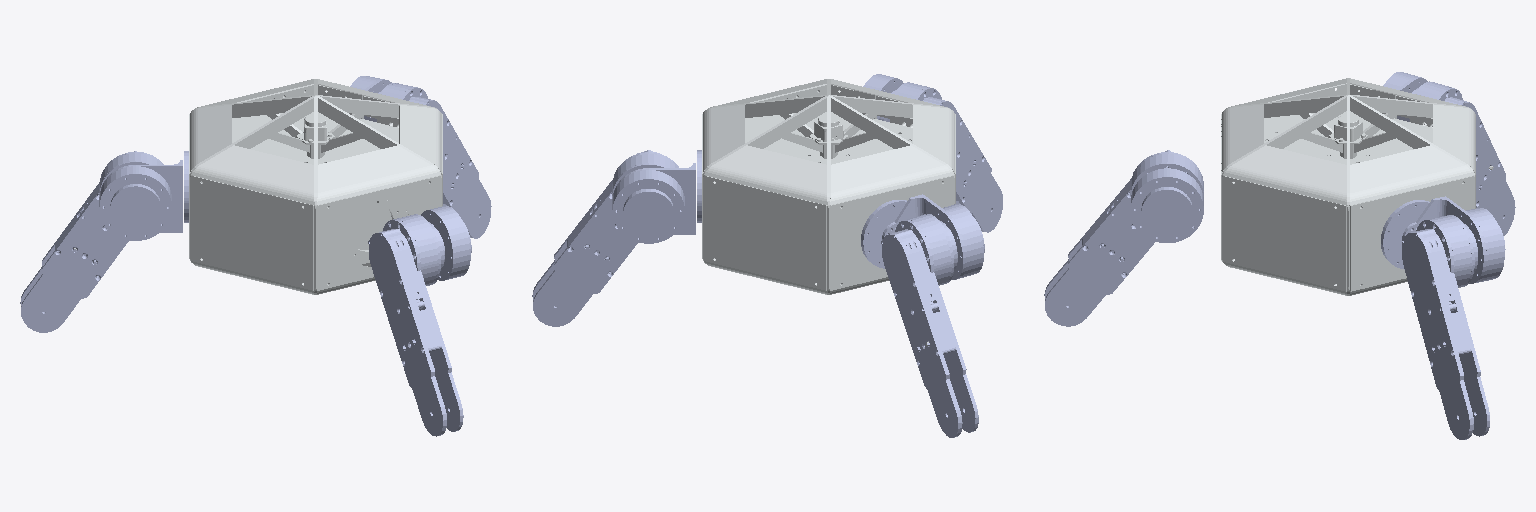
The robot description file, URDF, robot "tripod6":
<?xml version="1.0" encoding="utf-8"?>
<!-- This URDF was automatically created by SolidWorks to URDF Exporter! Originally created by [author] ([email redacted]) 
     Commit Version: 1.6.0-4-g7f85cfe  Build Version: 1.6.7995.38578
     For more information, please see http://wiki.ros.org/sw_urdf_exporter -->
<robot
  name="tripod6">
  <link
    name="base_link">
    <inertial>
      <origin
        xyz="-0.00325506602262156 0.0204763017132949 0.0257468978154951"
        rpy="0 0 0" />
      <mass
        value="11.3762827967786" />
      <inertia
        ixx="0.0406078012200441"
        ixy="0.0102641818605393"
        ixz="-3.94854534274407E-07"
        iyy="0.0528921667296946"
        iyz="-2.83895501119624E-08"
        izz="0.0710451640958759" />
    </inertial>
    <visual>
      <origin
        xyz="0 0 0"
        rpy="0 0 0" />
      <geometry>
        <mesh
          filename="package://tripod6/meshes/base_link.STL" />
      </geometry>
      <material
        name="">
        <color
          rgba="0.898039215686275 0.917647058823529 0.929411764705882 1" />
      </material>
    </visual>
    <collision>
      <origin
        xyz="0 0 0"
        rpy="0 0 0" />
      <geometry>
        <mesh
          filename="package://tripod6/meshes/base_link.STL" />
      </geometry>
    </collision>
  </link>
  <link
    name="sec01">
    <inertial>
      <origin
        xyz="0.00048653 0.015913 -3.1489E-05"
        rpy="0 0 0" />
      <mass
        value="0.69712" />
      <inertia
        ixx="0.0011428"
        ixy="-9.0045E-05"
        ixz="-4.1383E-07"
        iyy="0.0011939"
        iyz="-4.932E-19"
        izz="0.00095487" />
    </inertial>
    <visual>
      <origin
        xyz="0 0 0"
        rpy="0 0 0" />
      <geometry>
        <mesh
          filename="package://tripod6/meshes/sec01.STL" />
      </geometry>
      <material
        name="">
        <color
          rgba="0.79216 0.81961 0.93333 1" />
      </material>
    </visual>
    <collision>
      <origin
        xyz="0 0 0"
        rpy="0 0 0" />
      <geometry>
        <mesh
          filename="package://tripod6/meshes/sec01.STL" />
      </geometry>
    </collision>
  </link>
  <joint
    name="leg01"
    type="revolute">
    <origin
      xyz="-0.0027021 -0.19892 0.029643"
      rpy="0 0 -1.5708" />
    <parent
      link="base_link" />
    <child
      link="sec01" />
    <axis
      xyz="1 0 0" />
    <limit
      lower="-1.571"
      upper="1.571"
      effort="100000"
      velocity="10000" />
  </joint>
  <link
    name="hsec01">
    <inertial>
      <origin
        xyz="-0.0858021916032918 -0.0356038115553252 -0.0478130457045351"
        rpy="0 0 0" />
      <mass
        value="2.59385150429137" />
      <inertia
        ixx="0.0132813268489571"
        ixy="1.03375570286498E-07"
        ixz="7.13532302168331E-06"
        iyy="0.00811205669431778"
        iyz="-0.00473111556439252"
        izz="0.00548869413504745" />
    </inertial>
    <visual>
      <origin
        xyz="0 0 0"
        rpy="0 0 0" />
      <geometry>
        <mesh
          filename="package://tripod6/meshes/hsec01.STL" />
      </geometry>
      <material
        name="">
        <color
          rgba="0.792156862745098 0.819607843137255 0.933333333333333 1" />
      </material>
    </visual>
    <collision>
      <origin
        xyz="0 0 0"
        rpy="0 0 0" />
      <geometry>
        <mesh
          filename="package://tripod6/meshes/hsec01.STL" />
      </geometry>
    </collision>
  </link>
  <joint
    name="high01"
    type="revolute">
    <origin
      xyz="0.0788064380992387 0.0895000000000011 0"
      rpy="0 0 1.5707963267949" />
    <parent
      link="sec01" />
    <child
      link="hsec01" />
    <axis
      xyz="-1 0 0" />
    <limit
      lower="-1.571"
      upper="1.571"
      effort="100000"
      velocity="10000" />
  </joint>
  <link
    name="lsec01">
    <inertial>
      <origin
        xyz="-0.00741155567241021 -0.00127192326916403 -0.0533920056192748"
        rpy="0 0 0" />
      <mass
        value="0.292019107167018" />
      <inertia
        ixx="0.000681102636560165"
        ixy="7.38104870478283E-10"
        ixz="-9.0996591265309E-11"
        iyy="0.000615407778319895"
        iyz="-1.26066070763318E-05"
        izz="8.65624197807898E-05" />
    </inertial>
    <visual>
      <origin
        xyz="0 0 0"
        rpy="0 0 0" />
      <geometry>
        <mesh
          filename="package://tripod6/meshes/lsec01.STL" />
      </geometry>
      <material
        name="">
        <color
          rgba="0.792156862745098 0.819607843137255 0.933333333333333 1" />
      </material>
    </visual>
    <collision>
      <origin
        xyz="0 0 0"
        rpy="0 0 0" />
      <geometry>
        <mesh
          filename="package://tripod6/meshes/lsec01.STL" />
      </geometry>
    </collision>
  </link>
  <joint
    name="low01"
    type="revolute">
    <origin
      xyz="-0.10655 -0.162849136784516 -0.216842702161685"
      rpy="0 0 0" />
    <parent
      link="hsec01" />
    <child
      link="lsec01" />
    <axis
      xyz="-1 0 0" />
    <limit
      lower="-1.571"
      upper="1.571"
      effort="100000"
      velocity="10000" />
  </joint>
  <link
    name="sec02">
    <inertial>
      <origin
        xyz="0.00048653 0.015902 -0.00057944"
        rpy="0 0 0" />
      <mass
        value="0.69712" />
      <inertia
        ixx="0.0011428"
        ixy="-9.0005E-05"
        ixz="2.6872E-06"
        iyy="0.0011936"
        iyz="-8.2262E-06"
        izz="0.00095515" />
    </inertial>
    <visual>
      <origin
        xyz="0 0 0"
        rpy="0 0 0" />
      <geometry>
        <mesh
          filename="package://tripod6/meshes/sec02.STL" />
      </geometry>
      <material
        name="">
        <color
          rgba="0.79216 0.81961 0.93333 1" />
      </material>
    </visual>
    <collision>
      <origin
        xyz="0 0 0"
        rpy="0 0 0" />
      <geometry>
        <mesh
          filename="package://tripod6/meshes/sec02.STL" />
      </geometry>
    </collision>
  </link>
  <joint
    name="leg02"
    type="revolute">
    <origin
      xyz="0.18577 0.12753 0.029643"
      rpy="0 0 0.5236" />
    <parent
      link="base_link" />
    <child
      link="sec02" />
    <axis
      xyz="1 0 0" />
    <limit
      lower="-1.571"
      upper="1.571"
      effort="100000"
      velocity="10000" />
  </joint>
  <link
    name="hsec02">
    <inertial>
      <origin
        xyz="0.0335085717729542 -0.085756652923112 -0.0493355728010134"
        rpy="0 0 0" />
      <mass
        value="2.5896766478431" />
      <inertia
        ixx="0.0085198262787041"
        ixy="-1.03390021082483E-07"
        ixz="0.00459661998532711"
        iyy="0.0132812323187152"
        iyz="7.12185204419002E-06"
        izz="0.00508067346034401" />
    </inertial>
    <visual>
      <origin
        xyz="0 0 0"
        rpy="0 0 0" />
      <geometry>
        <mesh
          filename="package://tripod6/meshes/hsec02.STL" />
      </geometry>
      <material
        name="">
        <color
          rgba="0.792156862745098 0.819607843137255 0.933333333333333 1" />
      </material>
    </visual>
    <collision>
      <origin
        xyz="0 0 0"
        rpy="0 0 0" />
      <geometry>
        <mesh
          filename="package://tripod6/meshes/hsec02.STL" />
      </geometry>
    </collision>
  </link>
  <joint
    name="high02"
    type="revolute">
    <origin
      xyz="0.0788064380992388 0.0894469172453881 -0.00308204401280986"
      rpy="-0.0344430556533543 0 0" />
    <parent
      link="sec02" />
    <child
      link="hsec02" />
    <axis
      xyz="0 -1 0" />
    <limit
      lower="-1.571"
      upper="1.571"
      effort="100000"
      velocity="10000" />
  </joint>
  <link
    name="lsec02">
    <inertial>
      <origin
        xyz="-0.00106185200526404 -0.00741156475670043 -0.05339660055728"
        rpy="0 0 0" />
      <mass
        value="0.292019102742486" />
      <inertia
        ixx="0.0006155001532679"
        ixy="-7.36355502695954E-10"
        ixz="-1.05232958011785E-05"
        iyy="0.00068110389430123"
        iyz="-4.62761016689675E-10"
        izz="8.64713392775338E-05" />
    </inertial>
    <visual>
      <origin
        xyz="0 0 0"
        rpy="0 0 0" />
      <geometry>
        <mesh
          filename="package://tripod6/meshes/lsec02.STL" />
      </geometry>
      <material
        name="">
        <color
          rgba="0.792156862745098 0.819607843137255 0.933333333333333 1" />
      </material>
    </visual>
    <collision>
      <origin
        xyz="0 0 0"
        rpy="0 0 0" />
      <geometry>
        <mesh
          filename="package://tripod6/meshes/lsec02.STL" />
      </geometry>
    </collision>
  </link>
  <joint
    name="low02"
    type="revolute">
    <origin
      xyz="0.153312406197674 -0.10655 -0.223737141910982"
      rpy="0 0 0" />
    <parent
      link="hsec02" />
    <child
      link="lsec02" />
    <axis
      xyz="0 -1 0" />
    <limit
      lower="-1.571"
      upper="1.571"
      effort="100000"
      velocity="10000" />
  </joint>
  <link
    name="sec03">
    <inertial>
      <origin
        xyz="0.00048653 0.015897 0.00070173"
        rpy="0 0 0" />
      <mass
        value="0.69712" />
      <inertia
        ixx="0.0011428"
        ixy="-8.993E-05"
        ixz="-4.5622E-06"
        iyy="0.0011934"
        iyz="1.1001E-05"
        izz="0.00095538" />
    </inertial>
    <visual>
      <origin
        xyz="0 0 0"
        rpy="0 0 0" />
      <geometry>
        <mesh
          filename="package://tripod6/meshes/sec03.STL" />
      </geometry>
      <material
        name="">
        <color
          rgba="0.79216 0.81961 0.93333 1" />
      </material>
    </visual>
    <collision>
      <origin
        xyz="0 0 0"
        rpy="0 0 0" />
      <geometry>
        <mesh
          filename="package://tripod6/meshes/sec03.STL" />
      </geometry>
    </collision>
  </link>
  <joint
    name="leg03"
    type="revolute">
    <origin
      xyz="-0.19118 0.12753 0.029643"
      rpy="0 0 2.618" />
    <parent
      link="base_link" />
    <child
      link="sec03" />
    <axis
      xyz="1 0 0" />
    <limit
      lower="-1.571"
      upper="1.571"
      effort="100000"
      velocity="10000" />
  </joint>
  <link
    name="hsec03">
    <inertial>
      <origin
        xyz="0.033218 -0.085802 -0.049531"
        rpy="0 0 0" />
      <mass
        value="2.5939" />
      <inertia
        ixx="0.0085815"
        ixy="-1.0345E-07"
        ixz="0.0045728"
        iyy="0.013281"
        iyz="7.1198E-06"
        izz="0.0050192" />
    </inertial>
    <visual>
      <origin
        xyz="0 0 0"
        rpy="0 0 0" />
      <geometry>
        <mesh
          filename="package://tripod6/meshes/hsec03.STL" />
      </geometry>
      <material
        name="">
        <color
          rgba="0.79216 0.81961 0.93333 1" />
      </material>
    </visual>
    <collision>
      <origin
        xyz="0 0 0"
        rpy="0 0 0" />
      <geometry>
        <mesh
          filename="package://tripod6/meshes/hsec03.STL" />
      </geometry>
    </collision>
  </link>
  <joint
    name="high03"
    type="revolute">
    <origin
      xyz="0.078806 0.089405 0.0041238"
      rpy="0.046092 0 0" />
    <parent
      link="sec03" />
    <child
      link="hsec03" />
    <axis
      xyz="0 -1 0" />
    <limit
      lower="-1.571"
      upper="1.571"
      effort="100000"
      velocity="10000" />
  </joint>
  <link
    name="lsec03">
    <inertial>
      <origin
        xyz="-0.0014205 -0.0074116 -0.053388"
        rpy="0 0 0" />
      <mass
        value="0.29202" />
      <inertia
        ixx="0.00061533"
        ixy="-7.2533E-10"
        ixz="-1.4075E-05"
        iyy="0.0006811"
        iyz="-1.0164E-10"
        izz="8.6637E-05" />
    </inertial>
    <visual>
      <origin
        xyz="0 0 0"
        rpy="0 0 0" />
      <geometry>
        <mesh
          filename="package://tripod6/meshes/lsec03.STL" />
      </geometry>
      <material
        name="">
        <color
          rgba="0.89804 0.91765 0.92941 1" />
      </material>
    </visual>
    <collision>
      <origin
        xyz="0 0 0"
        rpy="0 0 0" />
      <geometry>
        <mesh
          filename="package://tripod6/meshes/lsec03.STL" />
      </geometry>
    </collision>
  </link>
  <joint
    name="low03"
    type="revolute">
    <origin
      xyz="0.15182 -0.10655 -0.22476"
      rpy="0 0 0" />
    <parent
      link="hsec03" />
    <child
      link="lsec03" />
    <axis
      xyz="0 -1 0" />
    <limit
      lower="-1.571"
      upper="1.571"
      effort="100000"
      velocity="10000" />
  </joint>

  <!--transmission definition -->
<transmission name="tran01">
    <type>transmission_interface/SimpleTransmission</type>
    <joint name="leg01">
      <hardwareInterface>hardware_interface/EffortJointInterface</hardwareInterface>
    </joint>
    <actuator name="motor01">
      <hardwareInterface>hardware_interface/EffortJointInterface</hardwareInterface>
      <mechanicalReduction>1</mechanicalReduction>
    </actuator>
  </transmission>
  
  <transmission name="tran02">
    <type>transmission_interface/SimpleTransmission</type>
    <joint name="high01">
      <hardwareInterface>hardware_interface/EffortJointInterface</hardwareInterface>
    </joint>
    <actuator name="motor02">
      <hardwareInterface>hardware_interface/EffortJointInterface</hardwareInterface>
      <mechanicalReduction>1</mechanicalReduction>
    </actuator>
  </transmission>
  
  <transmission name="tran03">
    <type>transmission_interface/SimpleTransmission</type>
    <joint name="low01">
      <hardwareInterface>hardware_interface/EffortJointInterface</hardwareInterface>
    </joint>
    <actuator name="motor03">
      <hardwareInterface>hardware_interface/EffortJointInterface</hardwareInterface>
      <mechanicalReduction>1</mechanicalReduction>
    </actuator>
  </transmission>
  
  <transmission name="tran04">
    <type>transmission_interface/SimpleTransmission</type>
    <joint name="leg02">
      <hardwareInterface>hardware_interface/EffortJointInterface</hardwareInterface>
    </joint>
    <actuator name="motor04">
      <hardwareInterface>hardware_interface/EffortJointInterface</hardwareInterface>
      <mechanicalReduction>1</mechanicalReduction>
    </actuator>
  </transmission>
  
  <transmission name="tran05">
    <type>transmission_interface/SimpleTransmission</type>
    <joint name="high02">
      <hardwareInterface>hardware_interface/EffortJointInterface</hardwareInterface>
    </joint>
    <actuator name="motor05">
      <hardwareInterface>hardware_interface/EffortJointInterface</hardwareInterface>
      <mechanicalReduction>1</mechanicalReduction>
    </actuator>
  </transmission>
  
  <transmission name="tran06">
    <type>transmission_interface/SimpleTransmission</type>
    <joint name="low02">
      <hardwareInterface>hardware_interface/EffortJointInterface</hardwareInterface>
    </joint>
    <actuator name="motor06">
      <hardwareInterface>hardware_interface/EffortJointInterface</hardwareInterface>
      <mechanicalReduction>1</mechanicalReduction>
    </actuator>
  </transmission>
  
  <transmission name="tran07">
    <type>transmission_interface/SimpleTransmission</type>
    <joint name="leg03">
      <hardwareInterface>hardware_interface/EffortJointInterface</hardwareInterface>
    </joint>
    <actuator name="motor07">
      <hardwareInterface>hardware_interface/EffortJointInterface</hardwareInterface>
      <mechanicalReduction>1</mechanicalReduction>
    </actuator>
  </transmission>
  
  <transmission name="tran08">
    <type>transmission_interface/SimpleTransmission</type>
    <joint name="high03">
      <hardwareInterface>hardware_interface/EffortJointInterface</hardwareInterface>
    </joint>
    <actuator name="motor08">
      <hardwareInterface>hardware_interface/EffortJointInterface</hardwareInterface>
      <mechanicalReduction>1</mechanicalReduction>
    </actuator>
  </transmission>
  
  <transmission name="tran09">
    <type>transmission_interface/SimpleTransmission</type>
    <joint name="low03">
      <hardwareInterface>hardware_interface/EffortJointInterface</hardwareInterface>
    </joint>
    <actuator name="motor09">
      <hardwareInterface>hardware_interface/EffortJointInterface</hardwareInterface>
      <mechanicalReduction>1</mechanicalReduction>
    </actuator>
  </transmission>
  
      <!--cointrol pluging -->
  <gazebo>
  <plugin name="gazebo_ros_control" filename="libgazebo_ros_control.so">

  </plugin>
</gazebo>

<!--
<gazebo reference="sec01">
   <turnGravityOff>true</turnGravityOff>
</gazebo>

<gazebo reference="sec02">
   <turnGravityOff>true</turnGravityOff>
</gazebo>

<gazebo reference="sec03">
   <turnGravityOff>true</turnGravityOff>
</gazebo>

<gazebo reference="sec04">
   <turnGravityOff>true</turnGravityOff>
</gazebo>

<gazebo reference="sec05">
   <turnGravityOff>true</turnGravityOff>
</gazebo>

<gazebo reference="sec06">
   <turnGravityOff>true</turnGravityOff>
</gazebo>

<gazebo reference="sec07">
   <turnGravityOff>true</turnGravityOff>
</gazebo>

<gazebo reference="sec08">
   <turnGravityOff>true</turnGravityOff>
</gazebo>

<gazebo reference="sec09">
   <turnGravityOff>true</turnGravityOff>
</gazebo>

<gazebo reference="sec10">
   <turnGravityOff>true</turnGravityOff>
</gazebo>

<gazebo reference="sec11">
   <turnGravityOff>true</turnGravityOff>
</gazebo>

-->
</robot>

--- What the picture shows (computed from the rendered views, not written in the file) ---
Views: 3 orthographic renders of the robot side by side, from view 1: azimuth 30°, elevation 25°; view 2: azimuth 150°, elevation 25°; view 3: azimuth 270°, elevation 25°.
Model tripod6 with 10 links and 9 joints (9 revolute), rooted at base_link, posed every joint at zero.
Visible links, largest first — view 1: base_link, hsec01, hsec03, hsec02, sec03; view 2: base_link, hsec03, hsec02, hsec01, sec03, sec02; view 3: base_link, hsec02, hsec01, hsec03, sec02.
Link boxes in pixels (box(x1,y1,x2,y2)): base_link: box(74, 79, 442, 294); hsec01: box(368, 206, 471, 436); hsec03: box(20, 151, 171, 332); hsec02: box(350, 76, 491, 238); sec03: box(99, 151, 188, 232); base_link: box(702, 79, 955, 345); hsec03: box(881, 204, 984, 437); hsec02: box(532, 150, 684, 326); hsec01: box(863, 74, 1002, 232); sec03: box(861, 194, 965, 279); sec02: box(612, 150, 701, 234); base_link: box(1221, 78, 1493, 295); hsec02: box(1402, 208, 1505, 439); hsec01: box(1044, 150, 1203, 326); hsec03: box(1383, 72, 1515, 235); sec02: box(1381, 196, 1486, 283).
Size in the robot's own frame: 0.8729 by 0.7713 by 0.4315 metres.
Meshes: 10 distinct files referenced, 6 mesh visuals loaded (6 binary STL); not drawn: 4 (reference not matched to a file when rendering).
